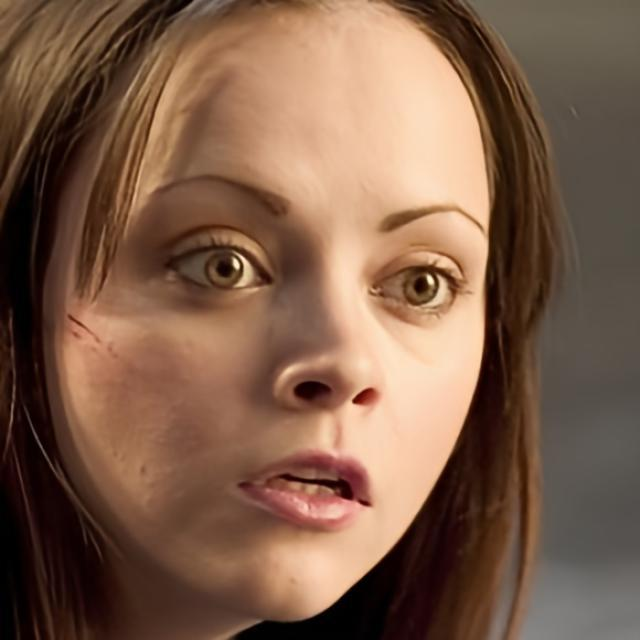fear: (38, 0, 491, 623)
